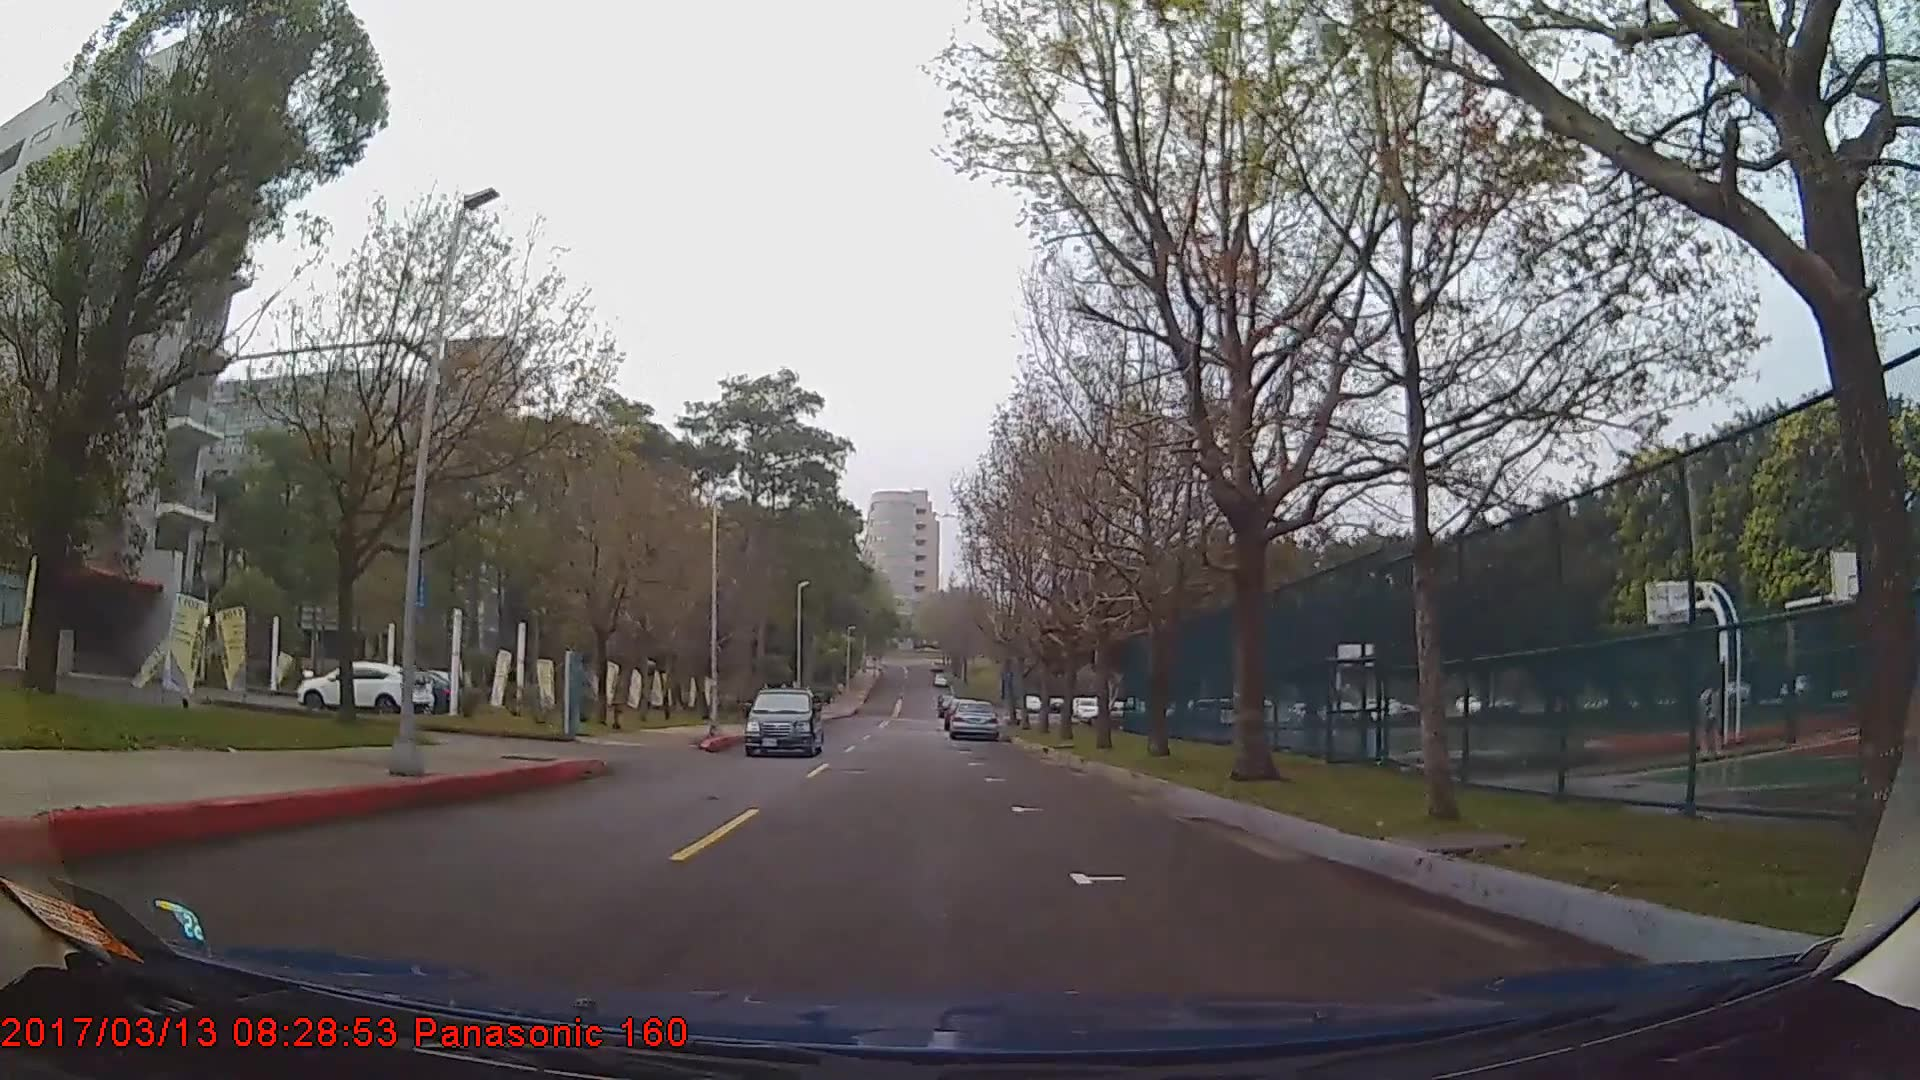vehicle: (295, 657, 431, 715), (742, 688, 823, 760), (948, 700, 998, 742)
